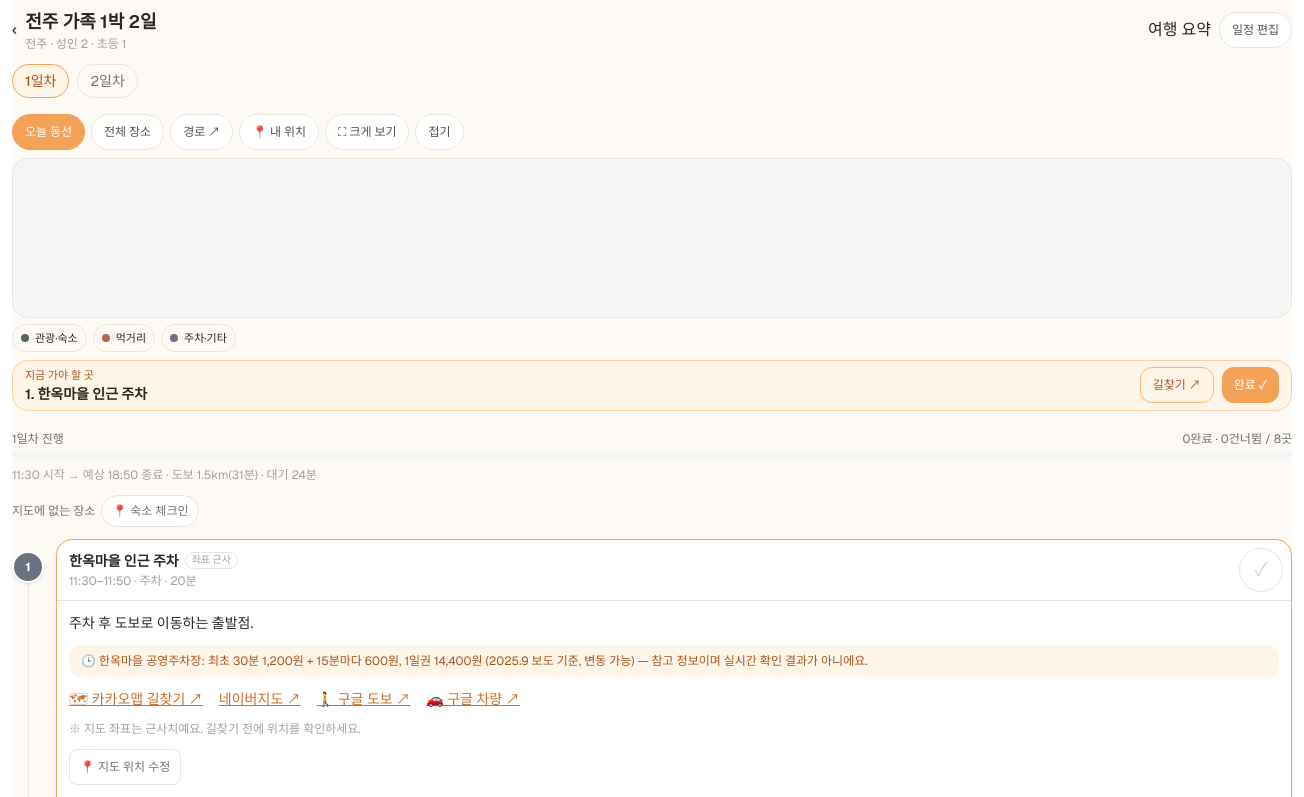
Test: 바로 반영 (낙관적 업데이트) › 저장이 실패하면 오류를 보여주고 서버 상태로 되돌리려 새로고침한다
What coordinates should you click on to do the following:
click the button "✓"
I would click on:
 (1261, 570)
Its box is 1239,548 -> 1283,592.
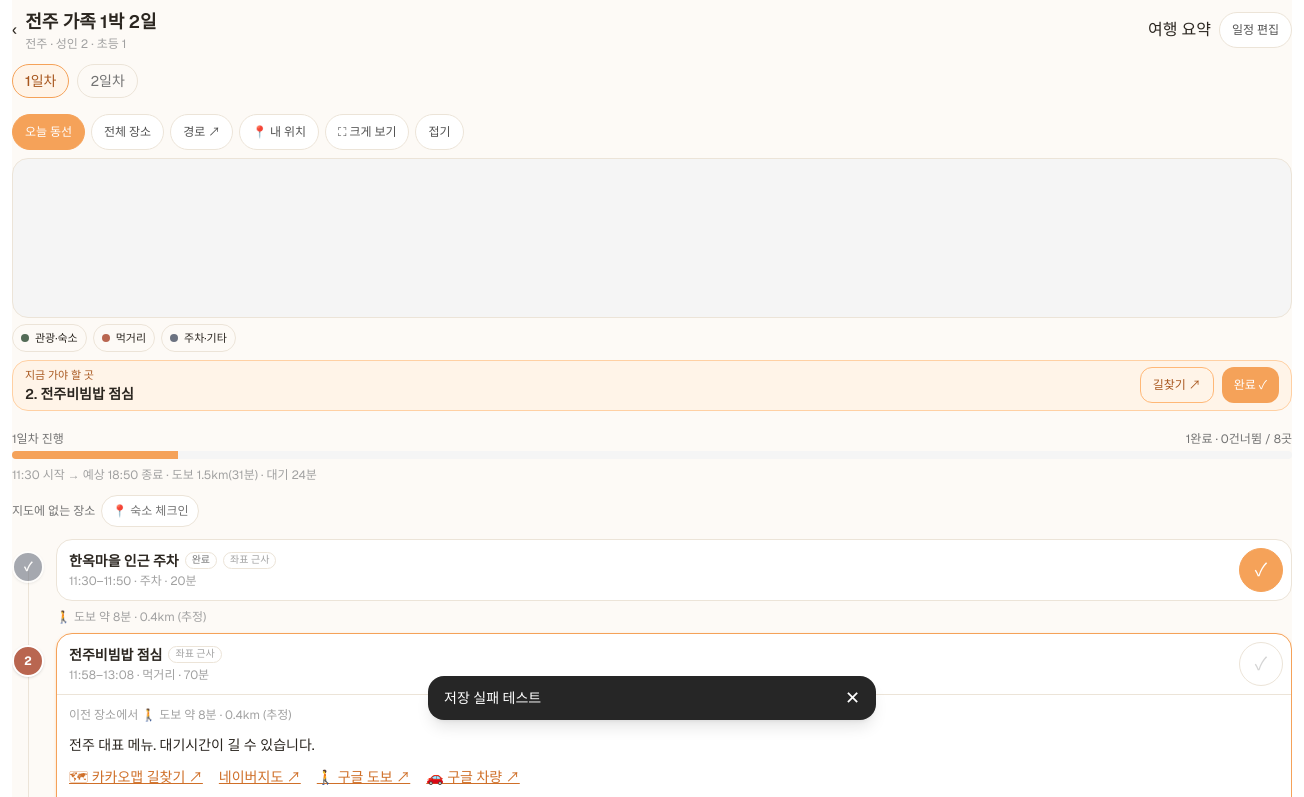
Expected: the message shows "저장 실패 테스트", 444,689 -> 541,707
